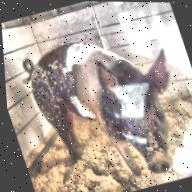boar: (11, 17, 192, 192)
